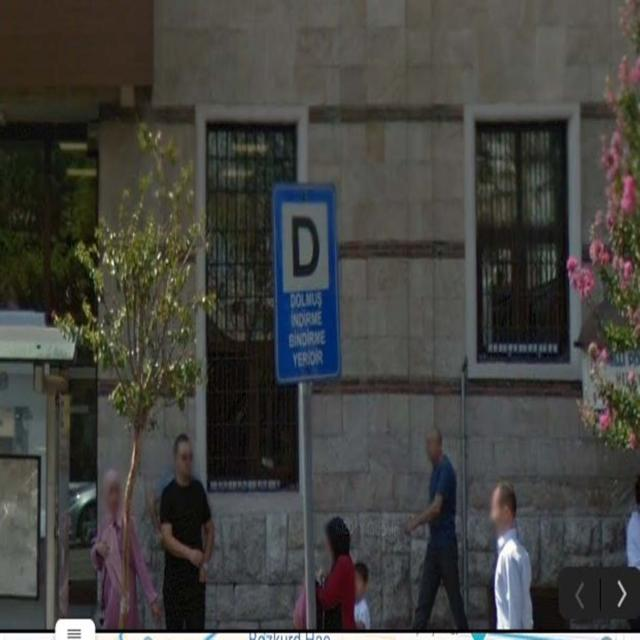durak: (273, 183, 340, 298)
